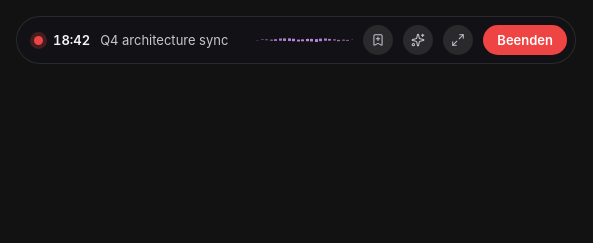
meeting bar › collapses to the bar and expands to one card with chips
The width and height of the screenshot is (593, 243).
Later steps or results of the test are not shown.
Expected: the button with class "kxd-mb-end" is shown, 483,25 -> 567,55
Click the button named "Transkript und Coaching zeigen" at (458, 40), box 443,25 -> 473,55
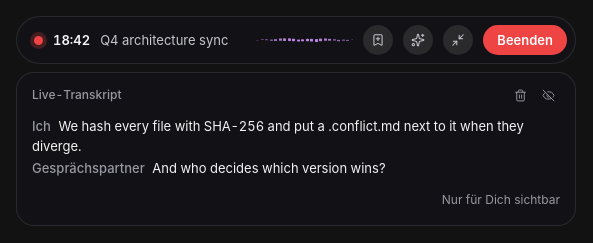
Now the element with class "kxd-mb-panel" is shown
